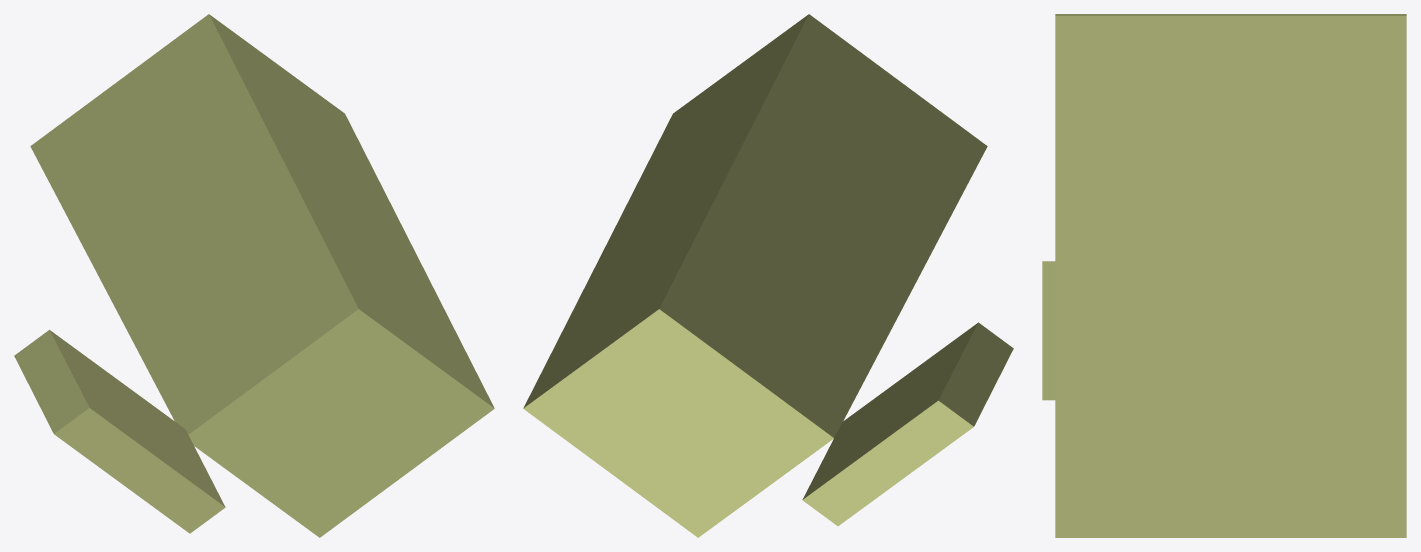
The picture shows the model from 3 angles, left to right: view 1: azimuth 30°, elevation 25°; view 2: azimuth 150°, elevation 25°; view 3: azimuth 270°, elevation 25°; orthographic projection. The views are drawn at different scales.
Visible parts, largest first — view 1: 0_1_1_3_2_2_3_3_0_2_2; view 2: 0_1_1_3_2_2_3_3_0_2_2; view 3: 0_1_1_3_2_2_3_3_0_2_2.
Part boxes in pixels (bbox=[...]): 0_1_1_3_2_2_3_3_0_2_2: bbox=[14, 14, 494, 537]; 0_1_1_3_2_2_3_3_0_2_2: bbox=[523, 14, 1013, 537]; 0_1_1_3_2_2_3_3_0_2_2: bbox=[1042, 14, 1406, 537].
Size of the model in its own units: 8.9 by 10.17 by 6.22.
